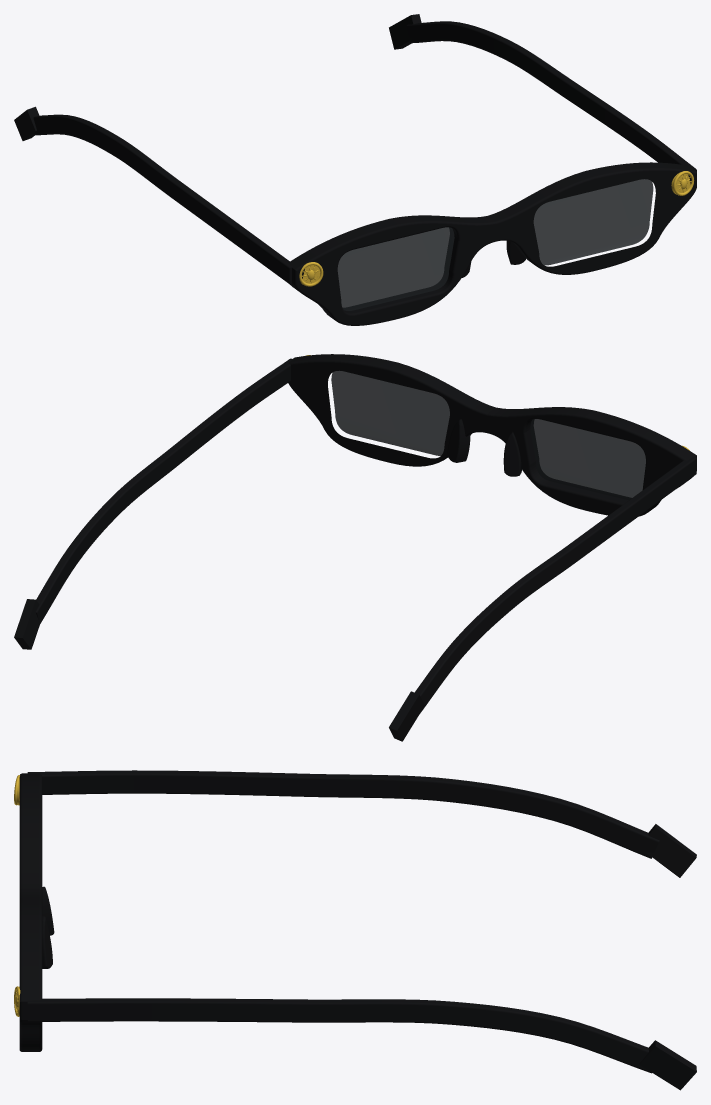
The model's file is versace_ve4514d.glb.
3 views of the same model, one above another, from view 1: azimuth 30°, elevation 25°; view 2: azimuth 150°, elevation 25°; view 3: azimuth 270°, elevation 25° (orthographic). The views are drawn at different scales.
Parts seen in each view (by area): view 1: versace_frame_acetate, versace_lens_right, versace_lens_left, versace_temple_right, versace_temple_left, versace_paddle_right, versace_paddle_left; view 2: versace_frame_acetate, versace_lens_right, versace_temple_left, versace_temple_right, versace_lens_left, versace_paddle_left, versace_paddle_right, versace_nosepad_right, versace_nosepad_left; view 3: versace_temple_right, versace_temple_left, versace_frame_acetate, versace_paddle_right, versace_paddle_left.
Boxes of the visible parts, bbox=[...] form: versace_frame_acetate: bbox=[288, 162, 696, 325]; versace_lens_right: bbox=[533, 179, 653, 265]; versace_lens_left: bbox=[337, 227, 454, 310]; versace_temple_right: bbox=[406, 21, 696, 171]; versace_temple_left: bbox=[32, 114, 292, 284]; versace_paddle_right: bbox=[389, 14, 421, 49]; versace_paddle_left: bbox=[14, 106, 39, 140]; versace_frame_acetate: bbox=[288, 354, 696, 516]; versace_lens_right: bbox=[331, 370, 449, 455]; versace_temple_left: bbox=[415, 456, 696, 713]; versace_temple_right: bbox=[35, 358, 292, 623]; versace_lens_left: bbox=[530, 419, 645, 500]; versace_paddle_left: bbox=[389, 691, 424, 741]; versace_paddle_right: bbox=[14, 599, 41, 649]; versace_nosepad_right: bbox=[447, 419, 470, 462]; versace_nosepad_left: bbox=[503, 432, 521, 476]; versace_temple_right: bbox=[27, 998, 651, 1073]; versace_temple_left: bbox=[27, 770, 659, 858]; versace_frame_acetate: bbox=[19, 773, 42, 1051]; versace_paddle_right: bbox=[639, 1040, 696, 1090]; versace_paddle_left: bbox=[646, 824, 696, 877].
Size of the model in its own units: 8.97 by 2.13 by 11.15.
